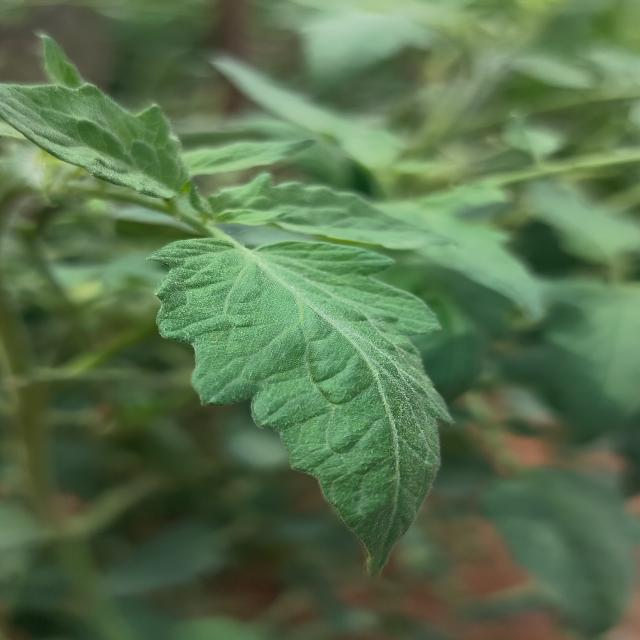tomato_healthy: (134, 234, 453, 579)
